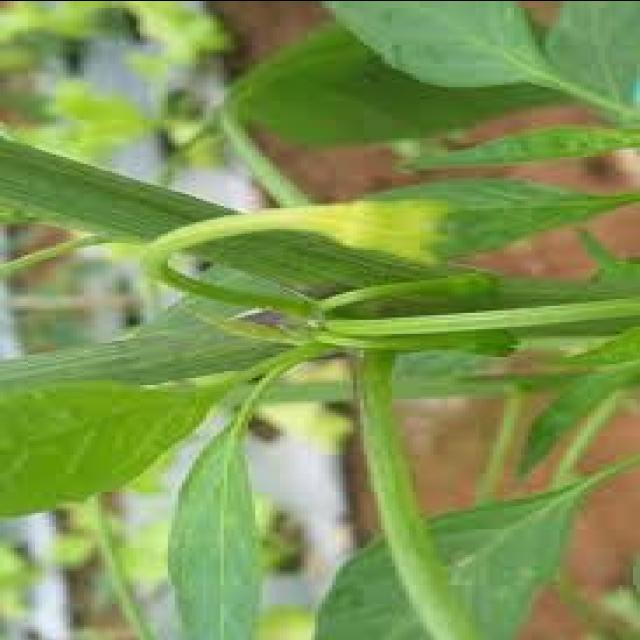sehat: (331, 481, 601, 640), (168, 421, 301, 640), (311, 0, 542, 89)
